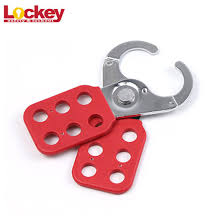hasp: (23, 41, 194, 197)
